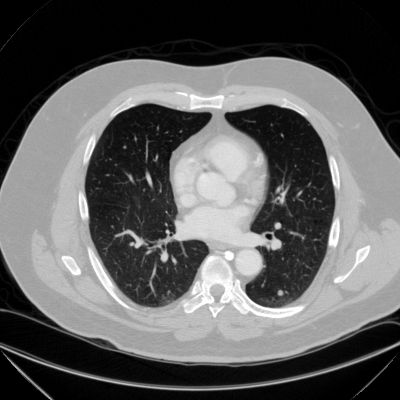nodule: (277, 290, 283, 296)
